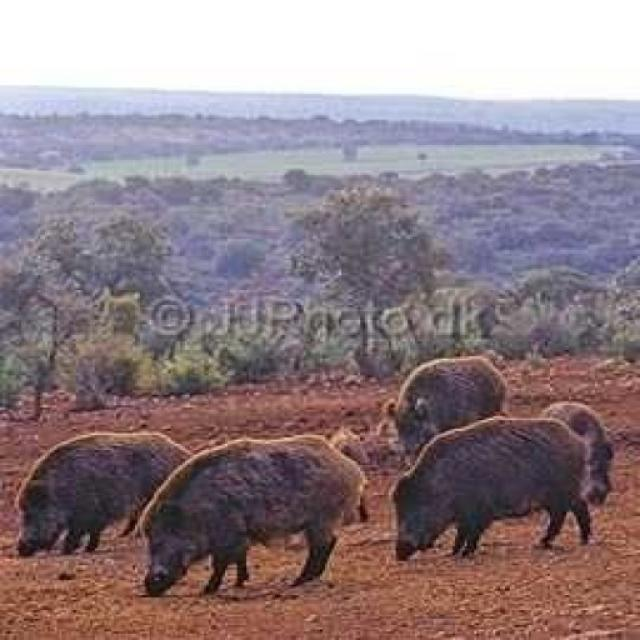pig: (129, 414, 366, 608), (385, 413, 596, 593), (5, 433, 189, 568), (368, 346, 524, 462)
